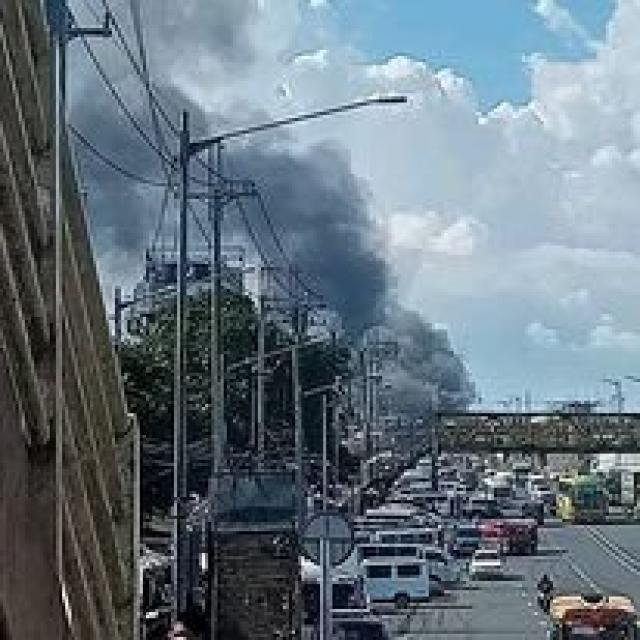Smoke: (93, 96, 339, 271), (312, 207, 460, 413)
